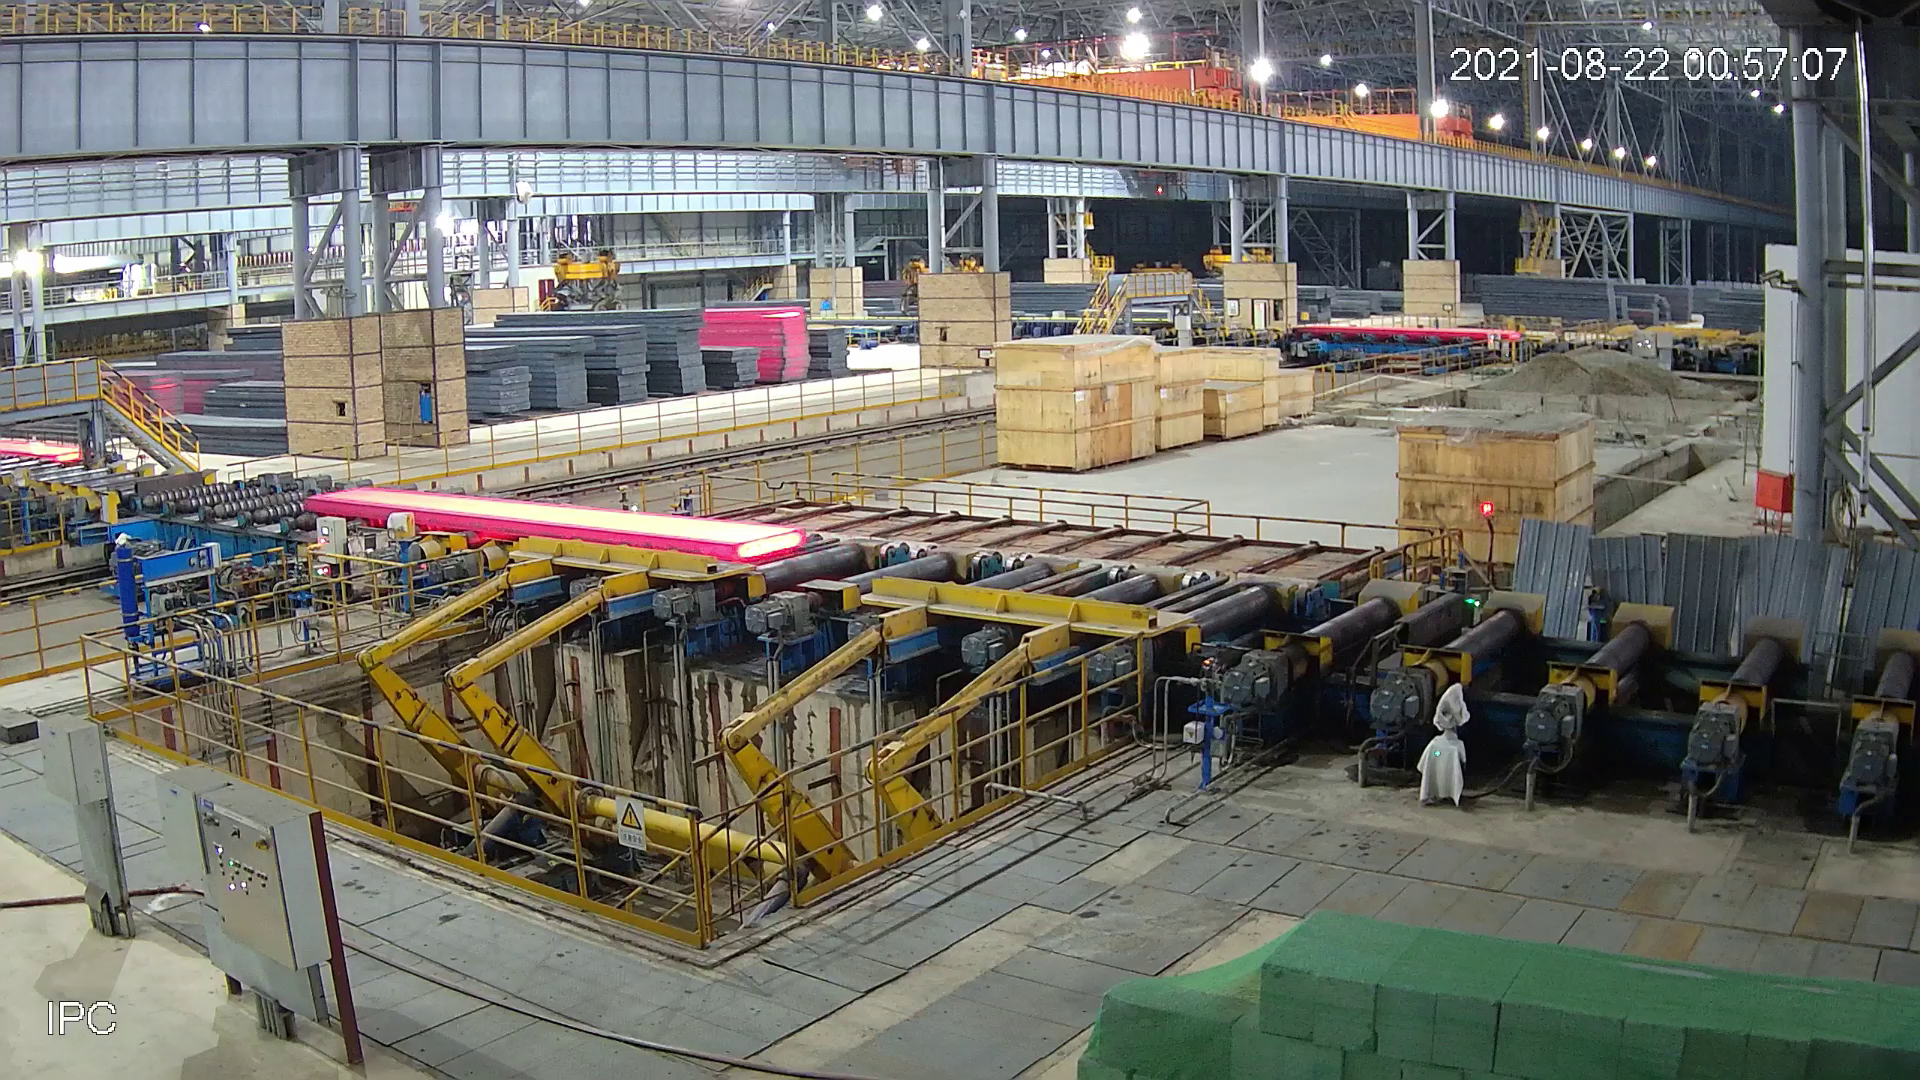slab: (305, 480, 807, 570)
